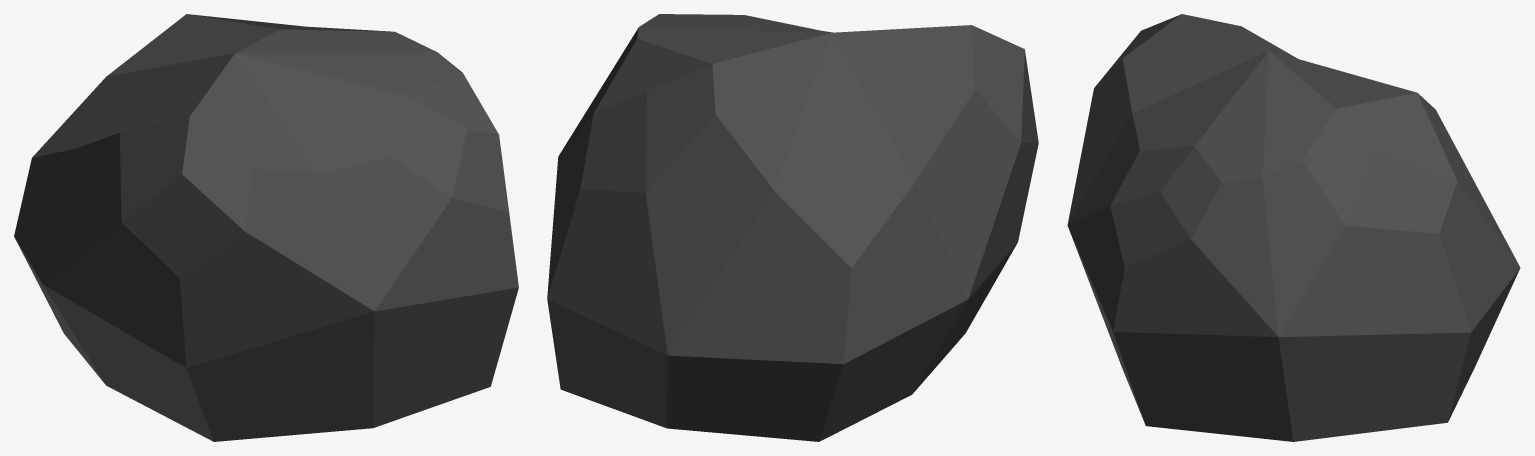
File: Rock_02.fbx
3 renders of one model, left to right at view 1: azimuth 30°, elevation 25°; view 2: azimuth 150°, elevation 25°; view 3: azimuth 270°, elevation 25°, orthographic. The views are drawn at different scales.
Parts seen in each view (by area): view 1: Rock_02; view 2: Rock_02; view 3: Rock_02.
Part boxes in pixels (x1,y1,x2,y2): Rock_02: (14, 14, 518, 441); Rock_02: (547, 14, 1038, 441); Rock_02: (1067, 14, 1520, 441).
Bounding box in the file's own units: 80.7 × 64.32 × 81.01.
